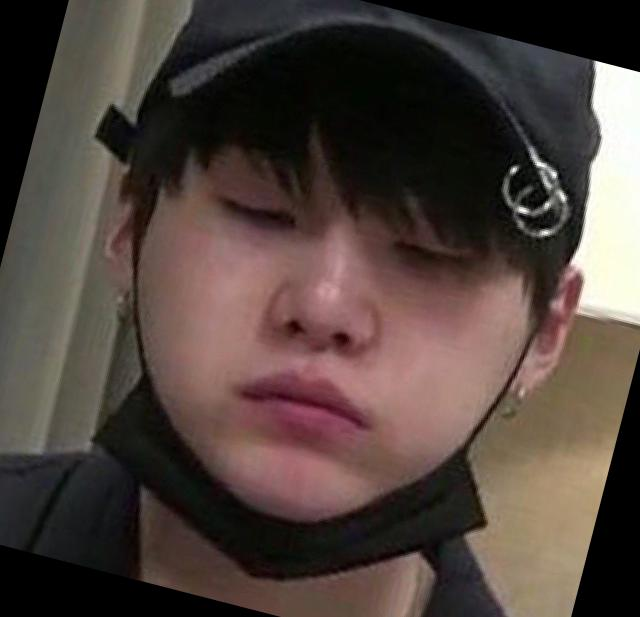mask_weared_incorrect: (104, 169, 533, 597)
